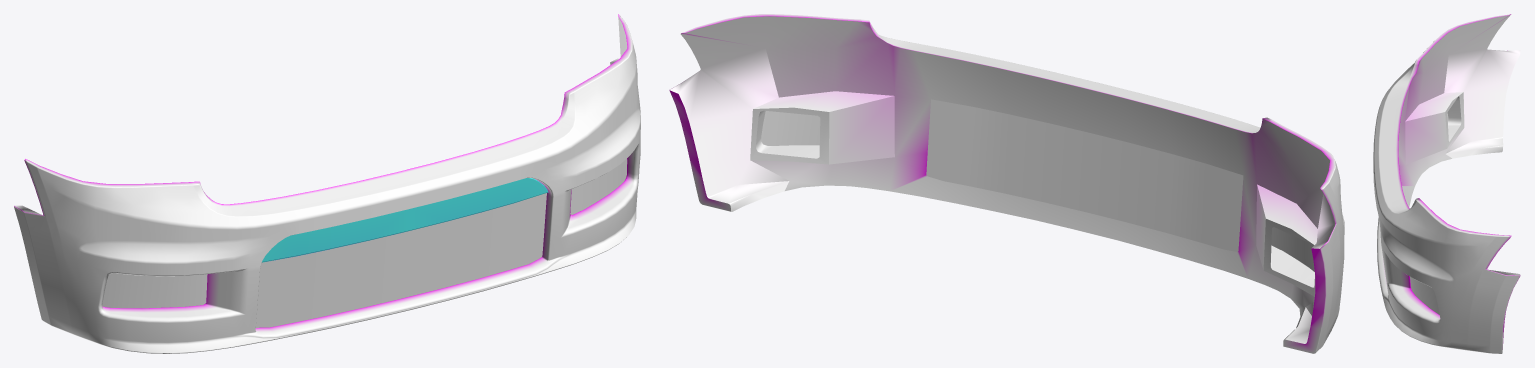
File: Car_Mini_CountrymanJCW_2017_BumperF_SetD_AltB.fbx
3 views of the same model, side by side, from view 1: azimuth 30°, elevation 25°; view 2: azimuth 150°, elevation 25°; view 3: azimuth 270°, elevation 25° (orthographic). The views are drawn at different scales.
Parts seen in each view (by area): view 1: BumperF 6; view 2: BumperF 6; view 3: BumperF 6.
Part boxes in pixels (x1,y1,x2,y2): BumperF 6: [14, 14, 640, 353]; BumperF 6: [669, 14, 1344, 353]; BumperF 6: [1373, 14, 1520, 353].
Bounding box in the file's own units: 1.77 × 0.4511 × 0.4877.
